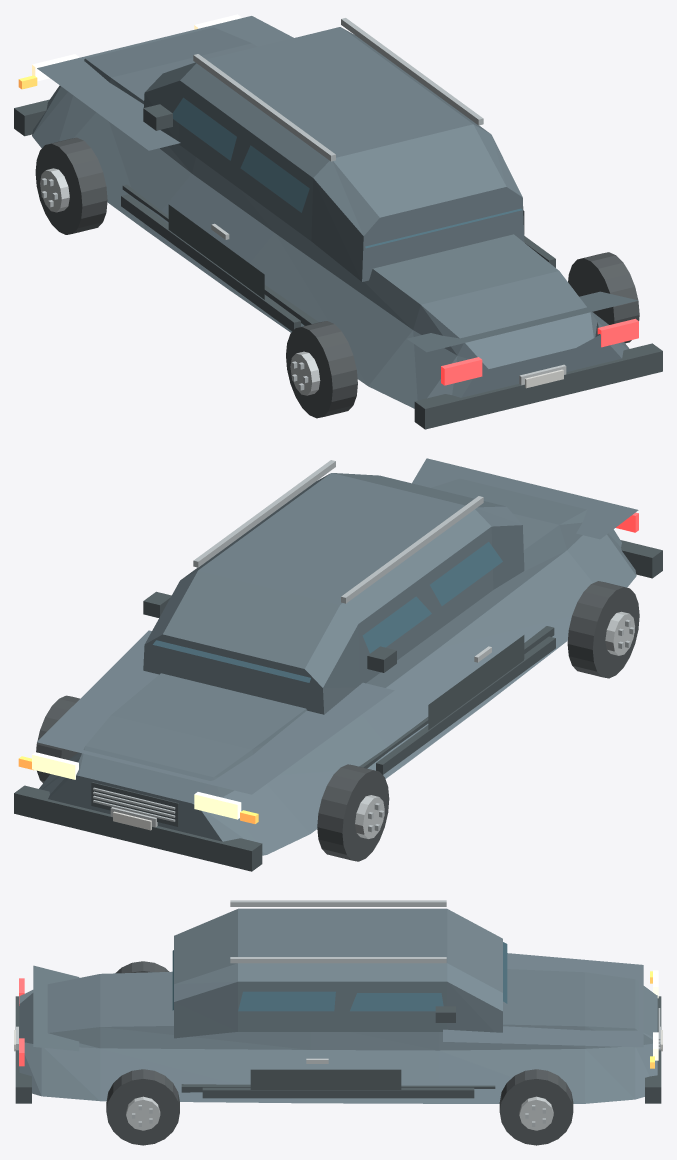
File: VehicleModern_SUV.glb
3 renders of one model, top to bottom at view 1: azimuth 30°, elevation 25°; view 2: azimuth 150°, elevation 25°; view 3: azimuth 270°, elevation 25°, orthographic. The views are drawn at different scales.
Parts seen in each view (by area): view 1: BodyPaint, CabinPaint, RearBumper, Hood, StaticWheelTire_-1_Front, StaticWheelTire_-1_Rear, StaticWheelTire_1_Rear, SideTrim-1, DoorSeam-1, Trunk, WindowGlassRear-1, WindowGlassSide-1 (+9 smaller); view 2: BodyPaint, CabinPaint, Hood, FrontBumper, StaticWheelTire_-1_Front, StaticWheelTire_-1_Rear, Trunk, SideTrim-1, DoorSeam-1, WindowGlassRear-1, WindowGlassSide-1, RoofRail-1 (+11 smaller); view 3: BodyPaint, CabinPaint, Hood, StaticWheelTire_1_Front, StaticWheelTire_1_Rear, DoorSeam1, SideTrim1, WindowGlassRear1, Trunk, WindowGlassSide1, RoofRail-1, RoofRail1 (+6 smaller).
Boxes of the visible parts, x1,y1,x2,y2 form: BodyPaint: (32,27,629,408); CabinPaint: (143,27,524,281); RearBumper: (414,343,662,429); Hood: (37,16,293,150); StaticWheelTire_-1_Front: (35,137,107,234); StaticWheelTire_-1_Rear: (286,321,357,418); StaticWheelTire_1_Rear: (568,252,639,343); SideTrim-1: (121,194,300,331); DoorSeam-1: (168,204,264,299); Trunk: (407,291,638,352); WindowGlassRear-1: (240,145,309,212); WindowGlassSide-1: (172,97,236,160); BodyPaint: (39,478,636,855); CabinPaint: (143,473,524,714); Hood: (37,630,394,794); FrontBumper: (14,785,262,871); StaticWheelTire_-1_Front: (317,764,389,861); StaticWheelTire_-1_Rear: (567,581,639,678); Trunk: (412,458,638,539); SideTrim-1: (376,636,555,774); DoorSeam-1: (428,635,524,729); WindowGlassRear-1: (430,542,502,605); WindowGlassSide-1: (362,596,431,653); RoofRail-1: (341,496,483,603); BodyPaint: (19,969,657,1103); CabinPaint: (174,908,502,1038); Hood: (443,953,643,1047); StaticWheelTire_1_Front: (499,1069,573,1145); StaticWheelTire_1_Rear: (106,1069,179,1145); DoorSeam1: (250,1069,401,1089); SideTrim1: (202,1087,474,1098); WindowGlassRear1: (238,991,335,1011); Trunk: (33,965,79,1051); WindowGlassSide1: (350,993,443,1011); RoofRail-1: (230,900,446,906); RoofRail1: (230,957,446,963).
Bounding box in the file's own units: 2.36 × 1.37 × 5.11.
